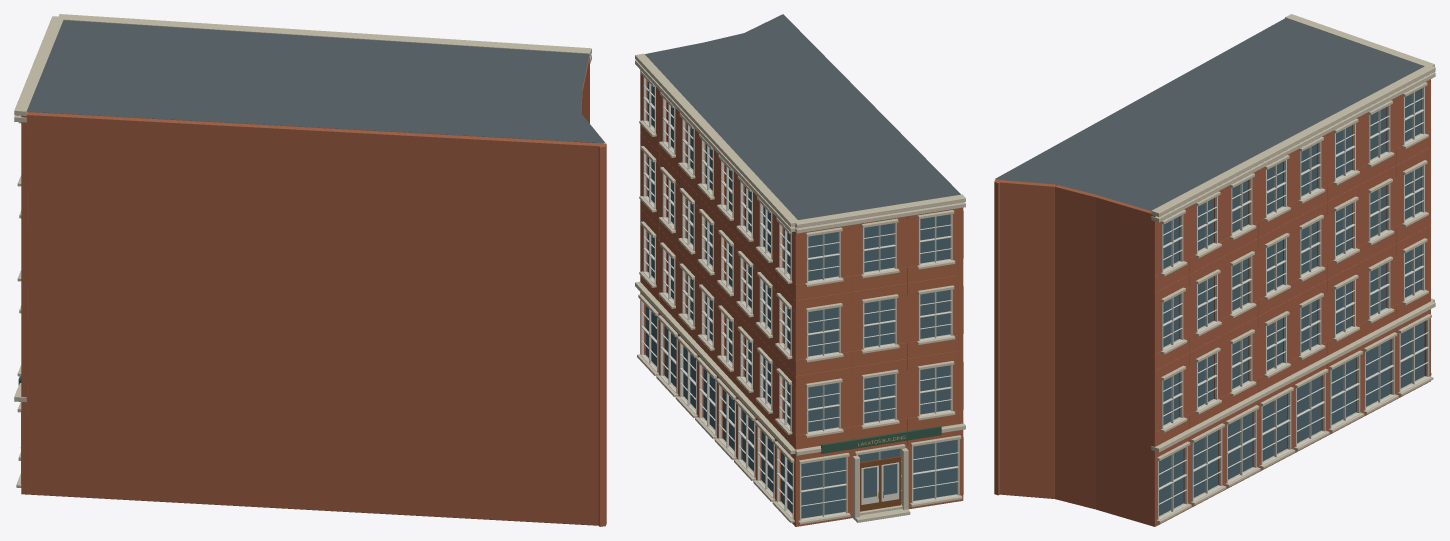
Rendered from lak-exterior-9eb5f9509073.glb.
The picture shows the model from 3 angles, left to right: view 1: azimuth 30°, elevation 25°; view 2: azimuth 150°, elevation 25°; view 3: azimuth 270°, elevation 25°; orthographic projection. The views are drawn at different scales.
Parts seen in each view (by area): view 1: LAK.001; view 2: LAK.001; view 3: LAK.001.
Part boxes in pixels (x1=…): LAK.001: x1=14, y1=14, x2=606, y2=526; LAK.001: x1=635, y1=14, x2=965, y2=526; LAK.001: x1=994, y1=14, x2=1435, y2=526.
Bounding box in the file's own units: 21.35 × 15.75 × 19.98.
